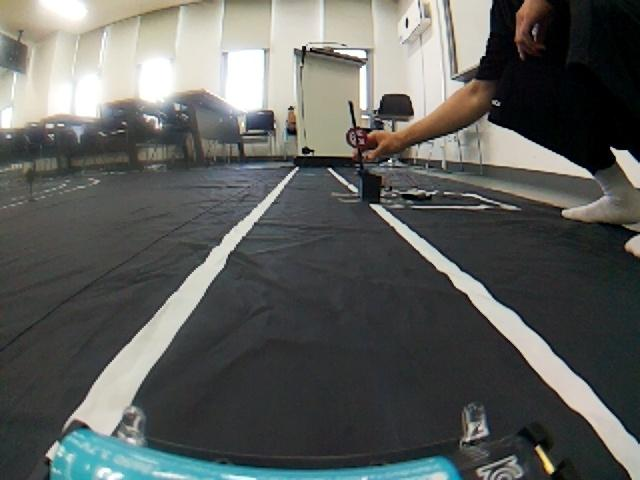straight: (64, 215, 574, 480)
